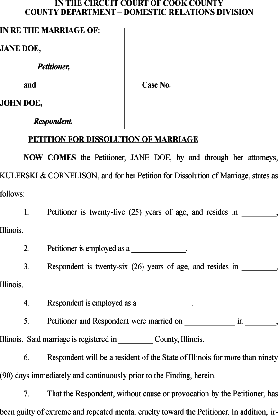textline: (136, 298, 195, 308), (131, 244, 188, 254), (183, 317, 236, 327), (117, 334, 154, 345), (240, 208, 278, 218), (241, 262, 278, 272), (244, 317, 278, 326)
